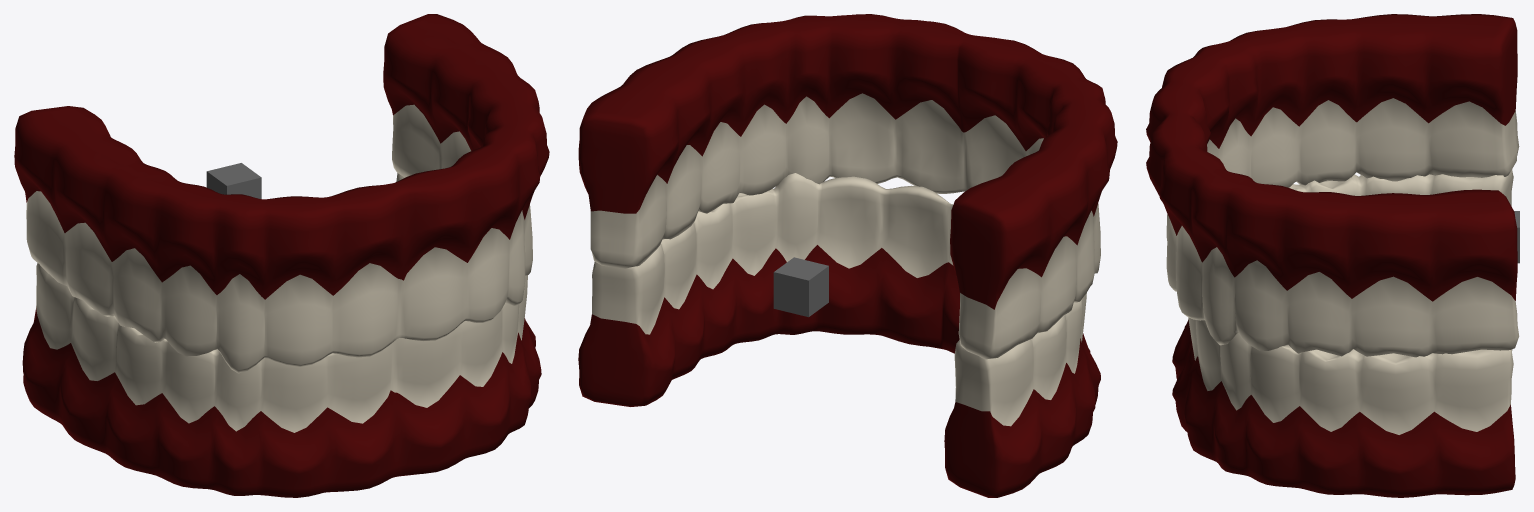
File: Teeth.dae
3 renders of one model, left to right at view 1: azimuth 30°, elevation 25°; view 2: azimuth 150°, elevation 25°; view 3: azimuth 270°, elevation 25°, orthographic. The views are drawn at different scales.
Visible parts, largest first — view 1: TeethUpper, TeethLower, Controller; view 2: TeethUpper, TeethLower, Controller; view 3: TeethUpper, TeethLower.
Part boxes in pixels (bbox=[...]): TeethUpper: bbox=[14, 14, 549, 373]; TeethLower: bbox=[22, 173, 541, 497]; Controller: bbox=[206, 163, 261, 198]; TeethUpper: bbox=[578, 14, 1117, 359]; TeethLower: bbox=[578, 173, 1100, 497]; Controller: bbox=[773, 257, 828, 317]; TeethUpper: bbox=[1146, 14, 1519, 357]; TeethLower: bbox=[1172, 169, 1515, 497].
Bounding box in the file's own units: 190 × 121 × 140.
